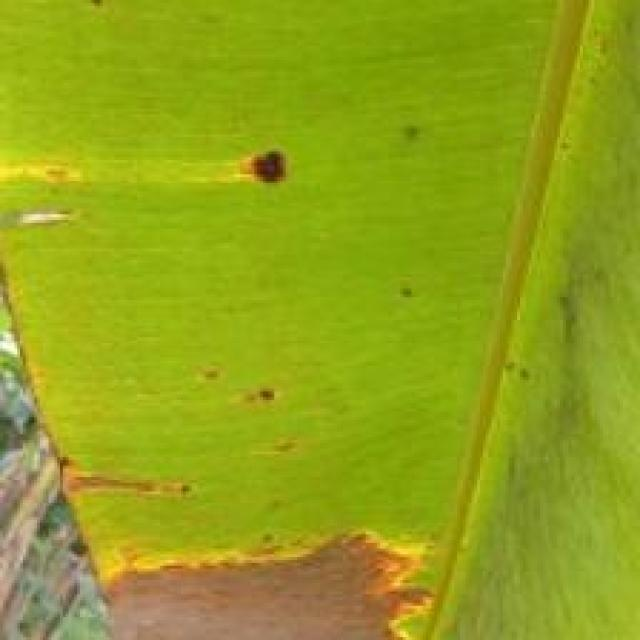Bacterial_spot: (86, 508, 472, 640), (28, 473, 219, 502), (0, 194, 97, 249), (241, 120, 313, 192), (244, 366, 293, 441), (0, 156, 107, 189)
